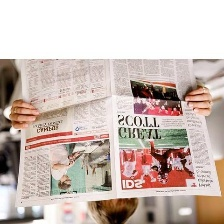news_paper: (11, 56, 222, 212)
